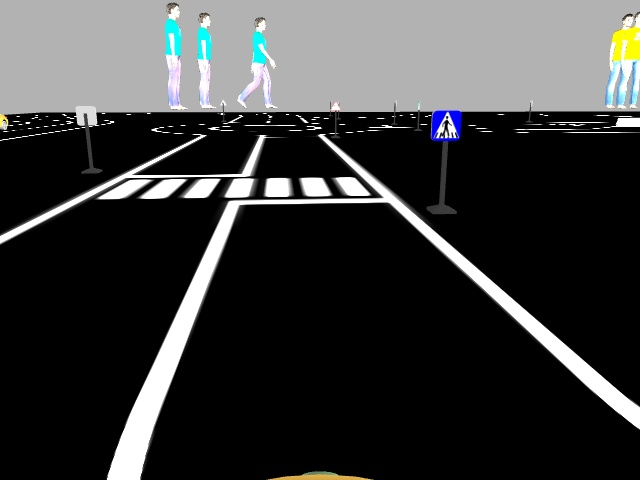Crosswalk: (430, 110, 461, 142)
